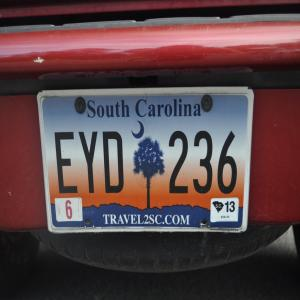Vehicle-registration-plate: (37, 89, 255, 235)
